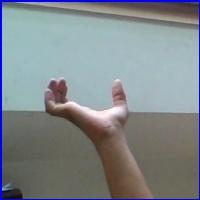B: (39, 71, 135, 144)
